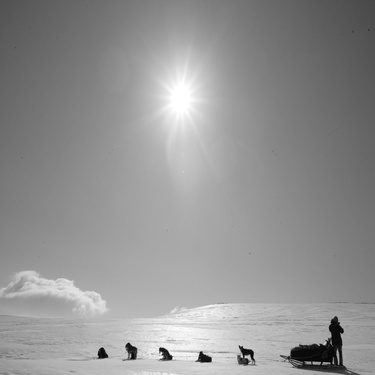dog: (235, 342, 257, 361), (194, 349, 213, 365), (157, 346, 174, 362), (123, 342, 138, 360), (229, 356, 251, 368), (97, 345, 110, 361)
